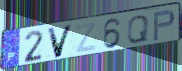2: (23, 30, 44, 64)
6: (102, 17, 122, 50)
P: (152, 9, 177, 43)
Q: (126, 14, 150, 44)
V: (46, 23, 75, 59)
Z: (74, 21, 98, 55)
